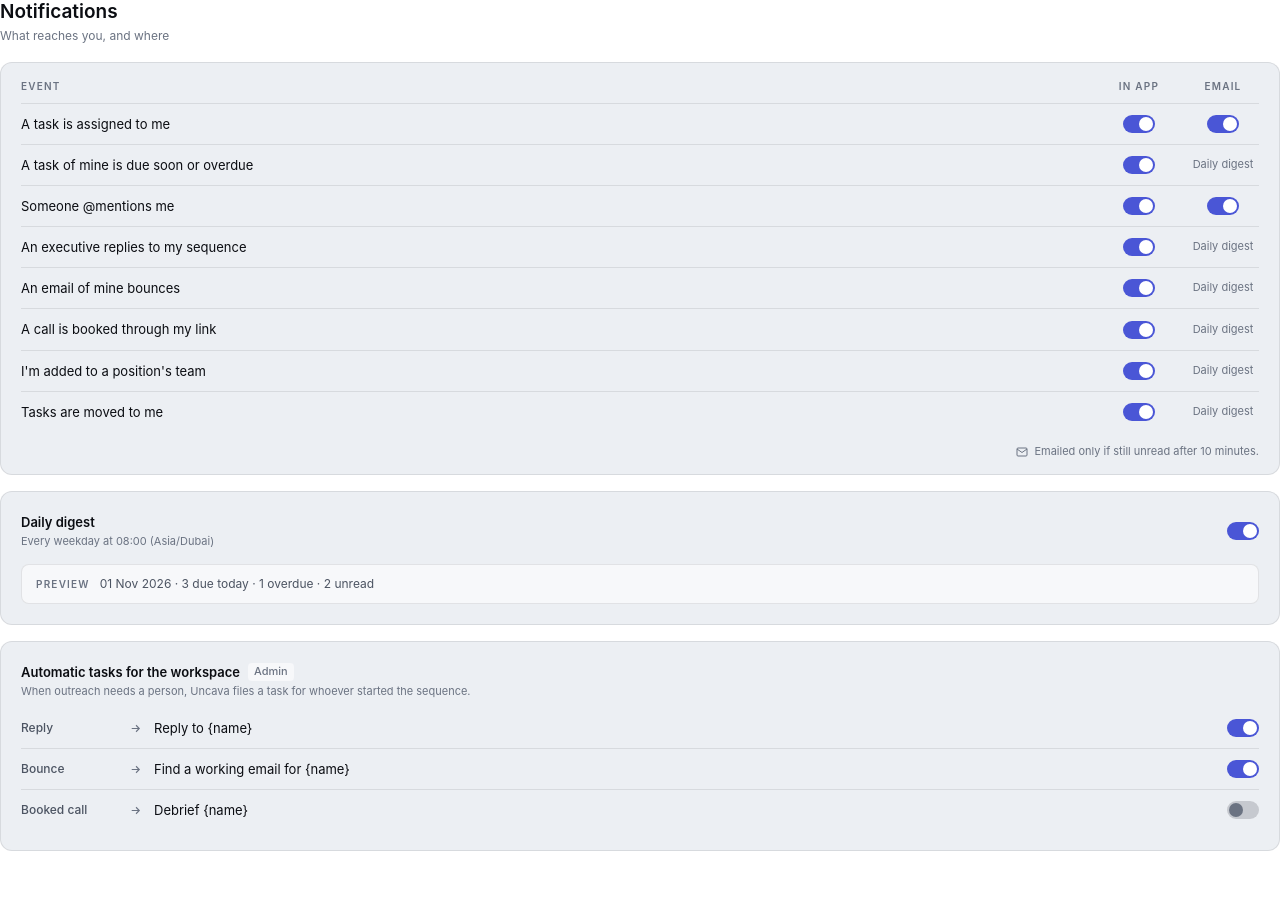
SettingsNotificationsPage › lets an admin switch the workspace's automatic tasks
Check: the text "When outreach needs a person, Uncava files a task for whoever started the sequence." is shown, box [21, 684, 470, 698]
Check: the text "Find a working email for {name}" is shown, box [154, 761, 350, 777]
Click the switch named "Automatic task on Booked call".
click(1243, 810)  # box [1227, 801, 1259, 819]
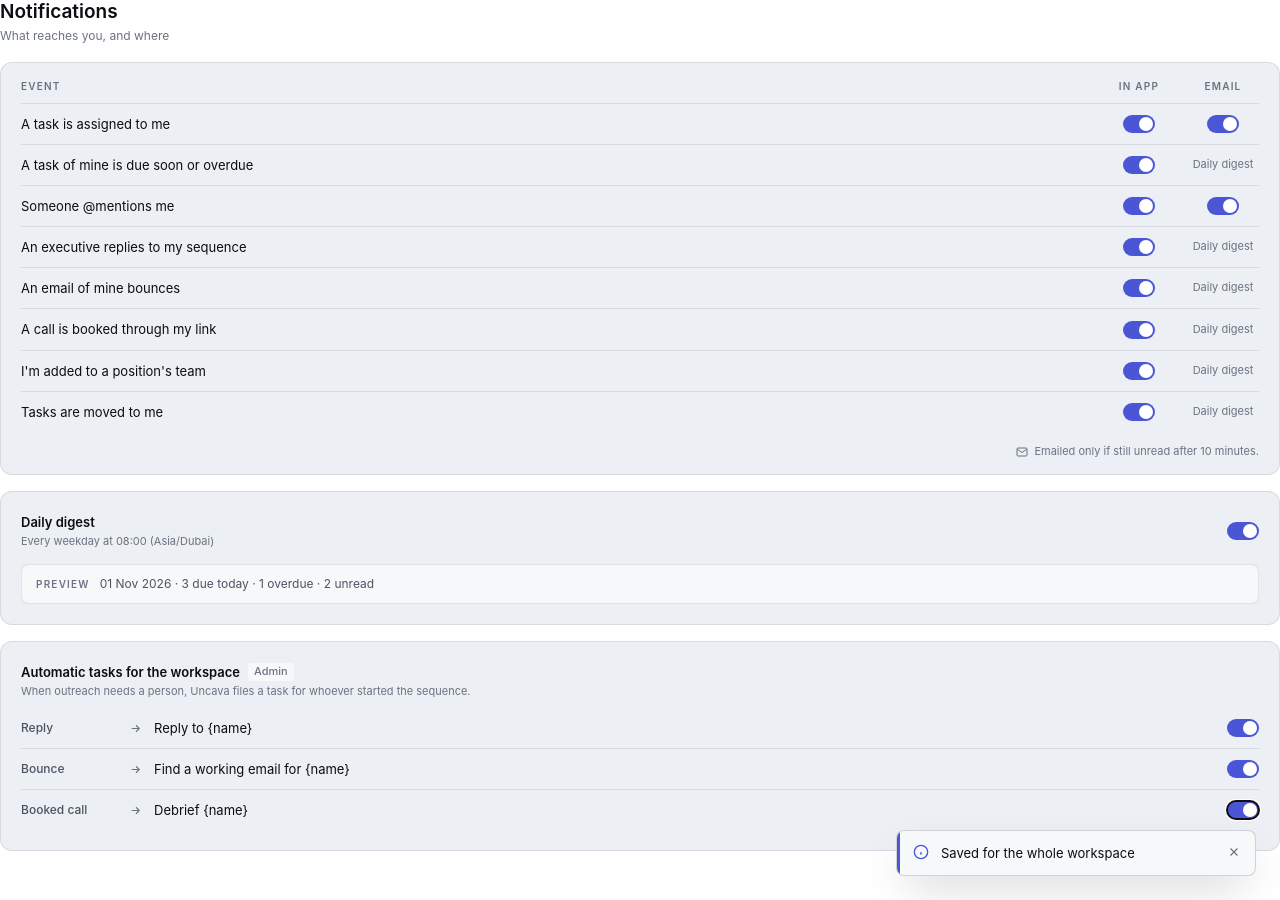
Check: the text "Saved for the whole workspace" is shown, box [941, 845, 1135, 861]
